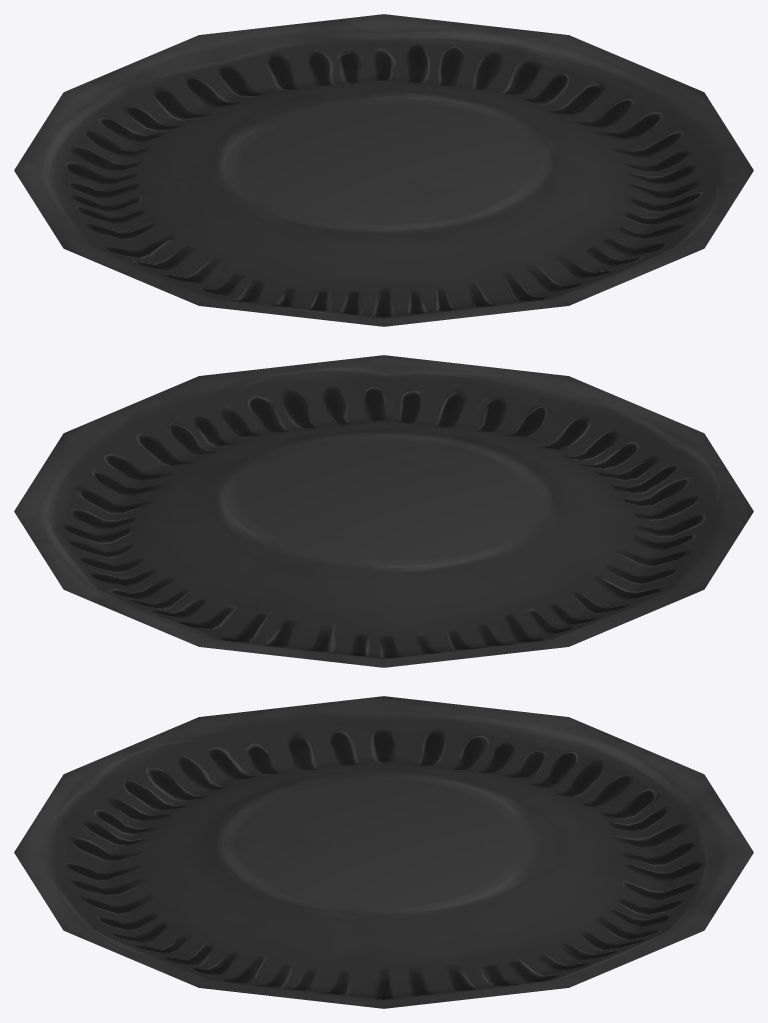
The model's file is grill.fbx.
3 renders of one model, top to bottom at view 1: azimuth 30°, elevation 25°; view 2: azimuth 150°, elevation 25°; view 3: azimuth 270°, elevation 25°, orthographic.
Visible parts, largest first — view 1: grill; view 2: grill; view 3: grill.
Part boxes in pixels (x1,y1,x2,y2): grill: (14,14,753,326); grill: (14,355,753,667); grill: (14,696,753,1008).
Size of the model in its own units: 188 by 9.16 by 188.
